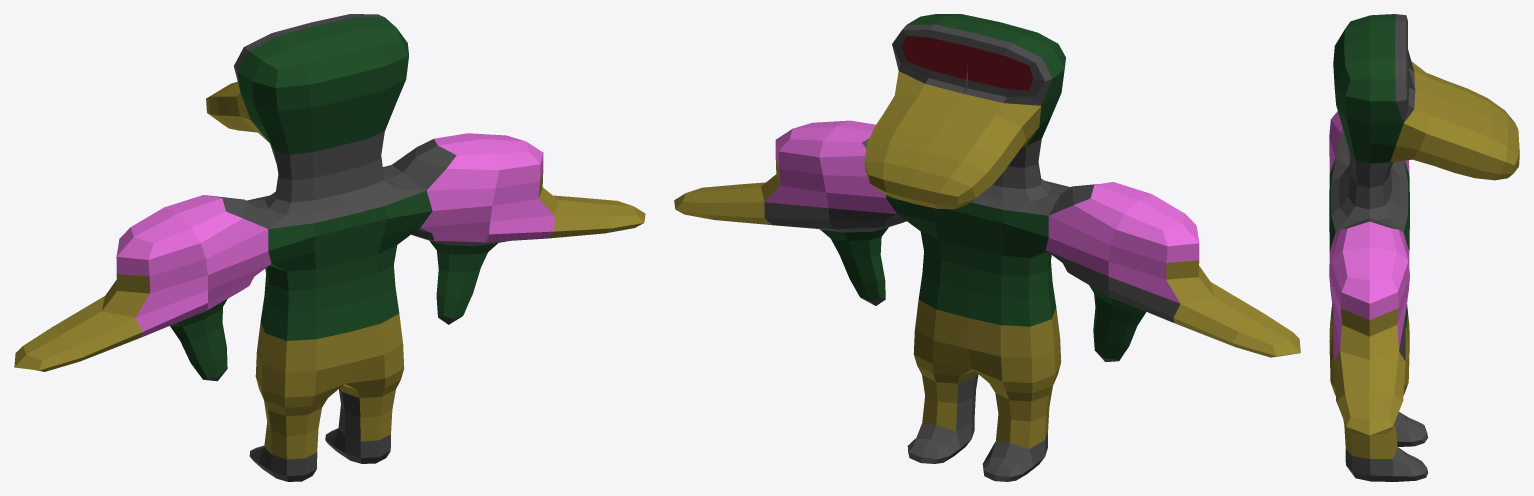
Rendered from ducknpc.fbx.
3 views of the same model, side by side, from view 1: azimuth 30°, elevation 25°; view 2: azimuth 150°, elevation 25°; view 3: azimuth 270°, elevation 25° (orthographic). The views are drawn at different scales.
Visible parts, largest first — view 1: Cube; view 2: Cube; view 3: Cube.
Boxes of the visible parts, <box> form: Cube: <box>14,14,645,481</box>; Cube: <box>674,14,1300,481</box>; Cube: <box>1329,14,1519,481</box>.
Size of the model in its own units: 1848 by 1214 by 498.
